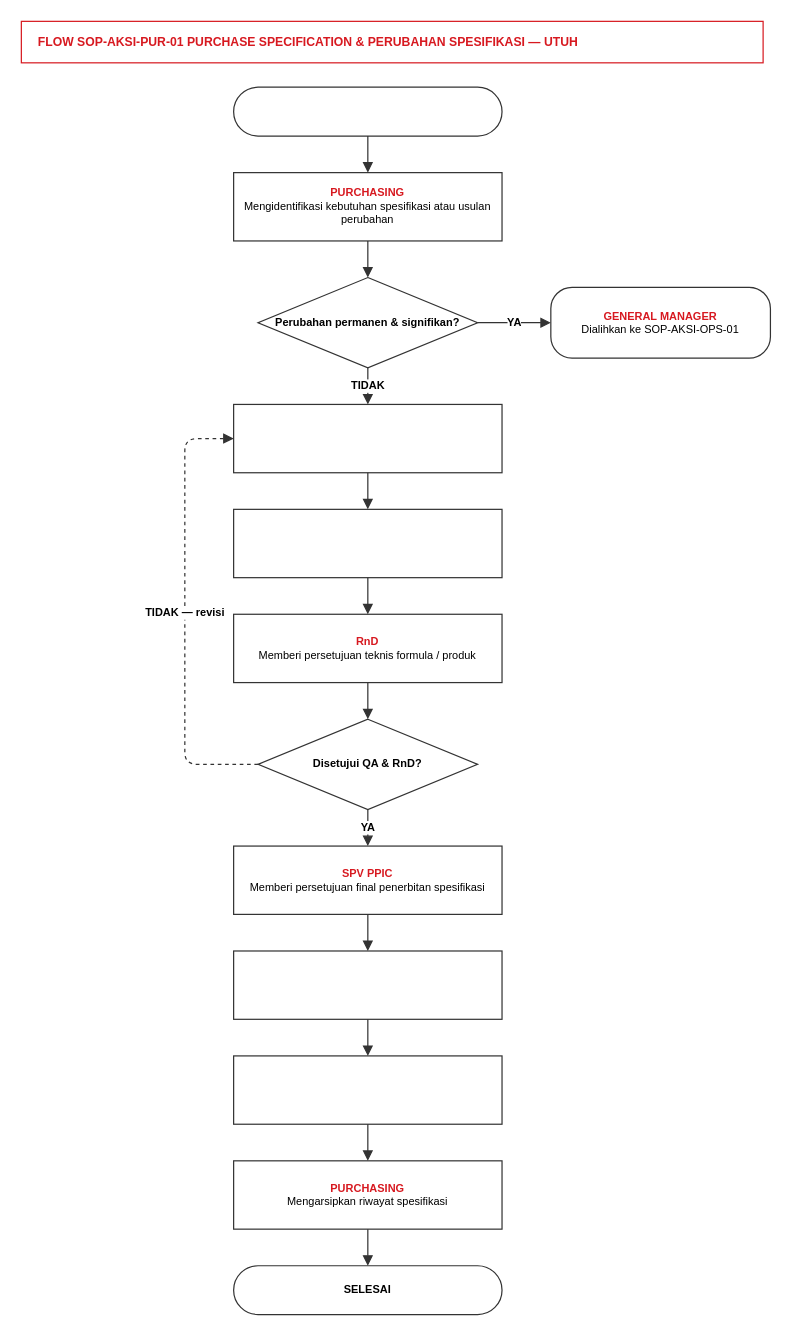
Image size: 792x1336. Some labels were removed from this diagram. Each missing label, with the centre of its shape:
FOREMAN QA Memberi persetujuan teknis mutu / food safety: point 367,543
MULAI: point 367,111
PURCHASING Mendistribusikan spesifikasi ke QC & supplier: point 367,1089
PURCHASING Menerbitkan & memublikasikan spesifikasi final: point 367,984
PURCHASING Menyusun draft spesifikasi pembelian: point 367,438
